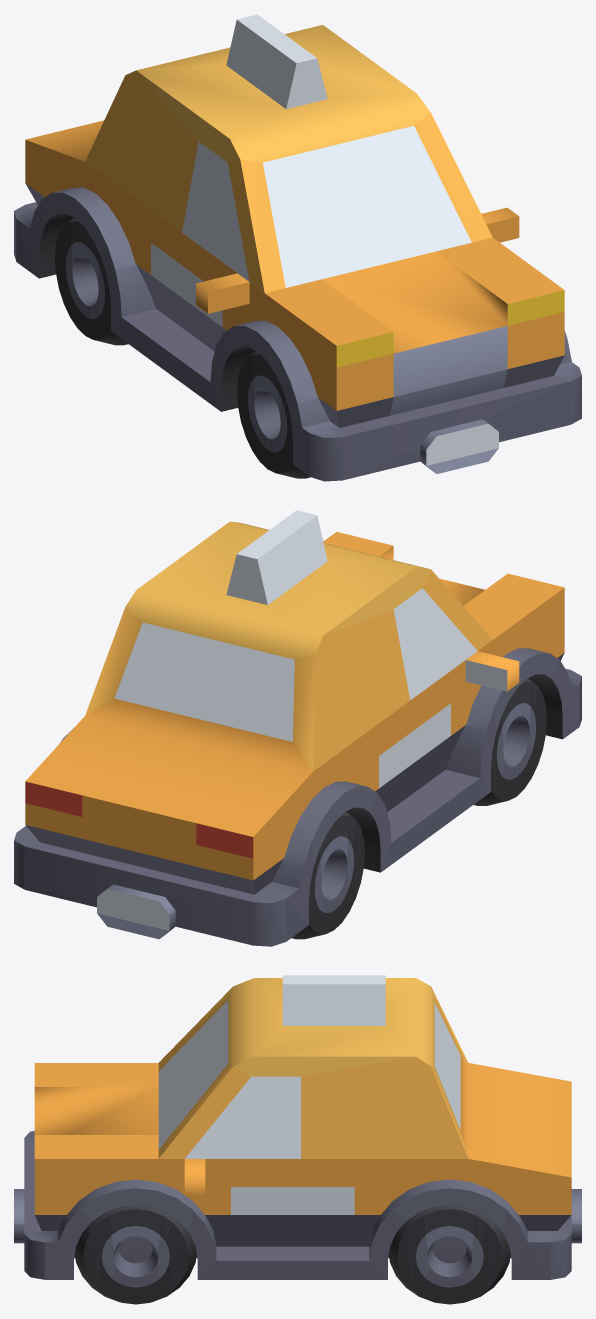
The picture shows the model from 3 angles, top to bottom: view 1: azimuth 30°, elevation 25°; view 2: azimuth 150°, elevation 25°; view 3: azimuth 270°, elevation 25°; orthographic projection. The views are drawn at different scales.
Parts seen in each view (by area): view 1: body, wheel-front-right, wheel-back-right; view 2: body, wheel-back-right, wheel-front-right; view 3: body, wheel-back-left, wheel-front-left.
Boxes of the visible parts, <box> form: body: <box>14,14,581,481</box>; wheel-front-right: <box>237,350,310,478</box>; wheel-back-right: <box>55,217,128,345</box>; body: <box>14,510,581,946</box>; wheel-back-right: <box>291,811,364,939</box>; wheel-front-right: <box>473,678,546,805</box>; body: <box>14,975,581,1279</box>; wheel-back-left: <box>388,1205,510,1304</box>; wheel-front-left: <box>75,1205,196,1304</box>.
Size of the model in its own units: 1.55 by 1.55 by 2.84.
